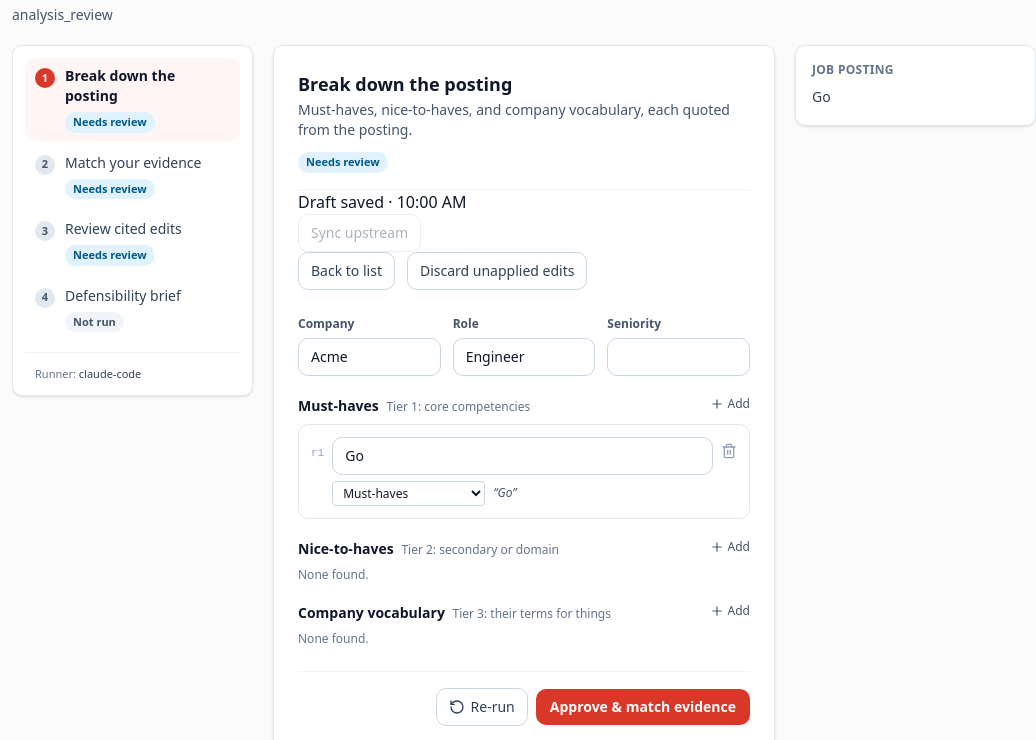
Scenario: stops generation when approval fails after a successful Apply
The image size is (1036, 740).
(page scrolled)
Check: the field named "Requirement r1" is shown, box [332, 436, 713, 474]
Click the button "Approve & match evidence".
click(643, 706)  # box [536, 688, 750, 724]
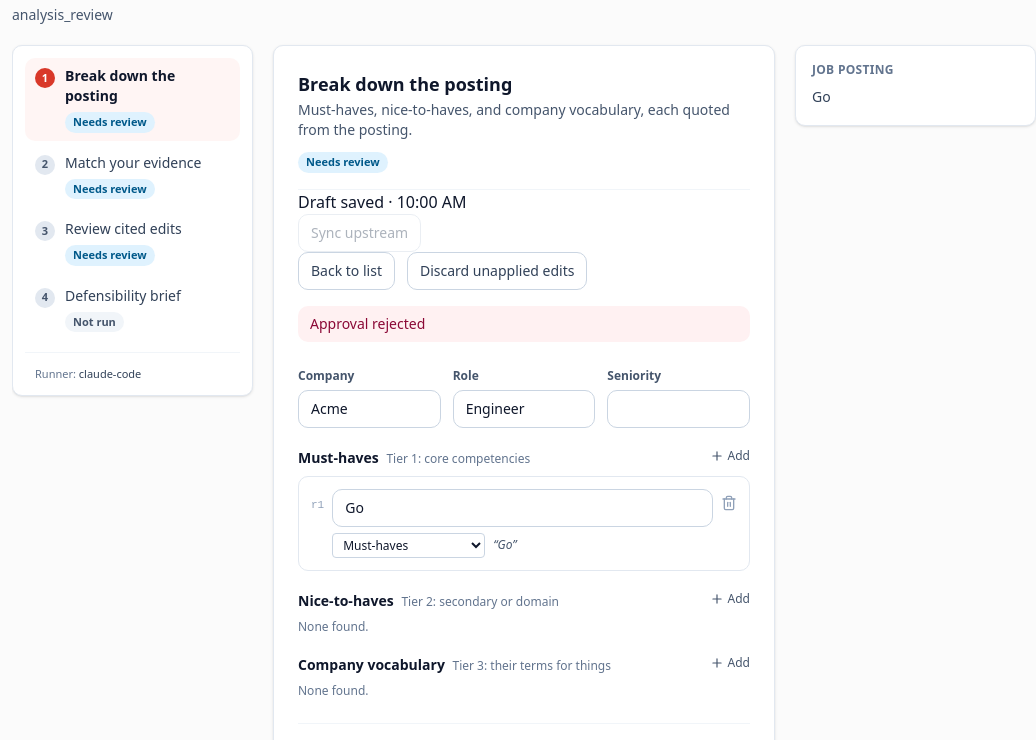
Check: the message "Approval rejected" is shown, box [298, 306, 750, 342]
